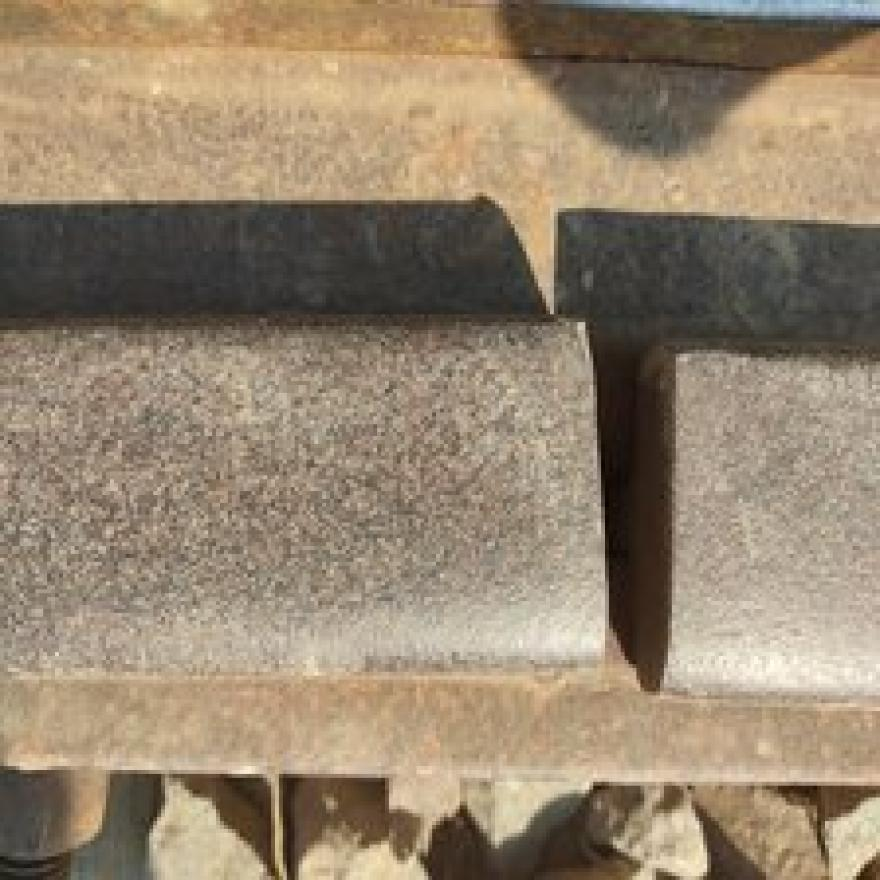railway-gap: (367, 252, 880, 808)
